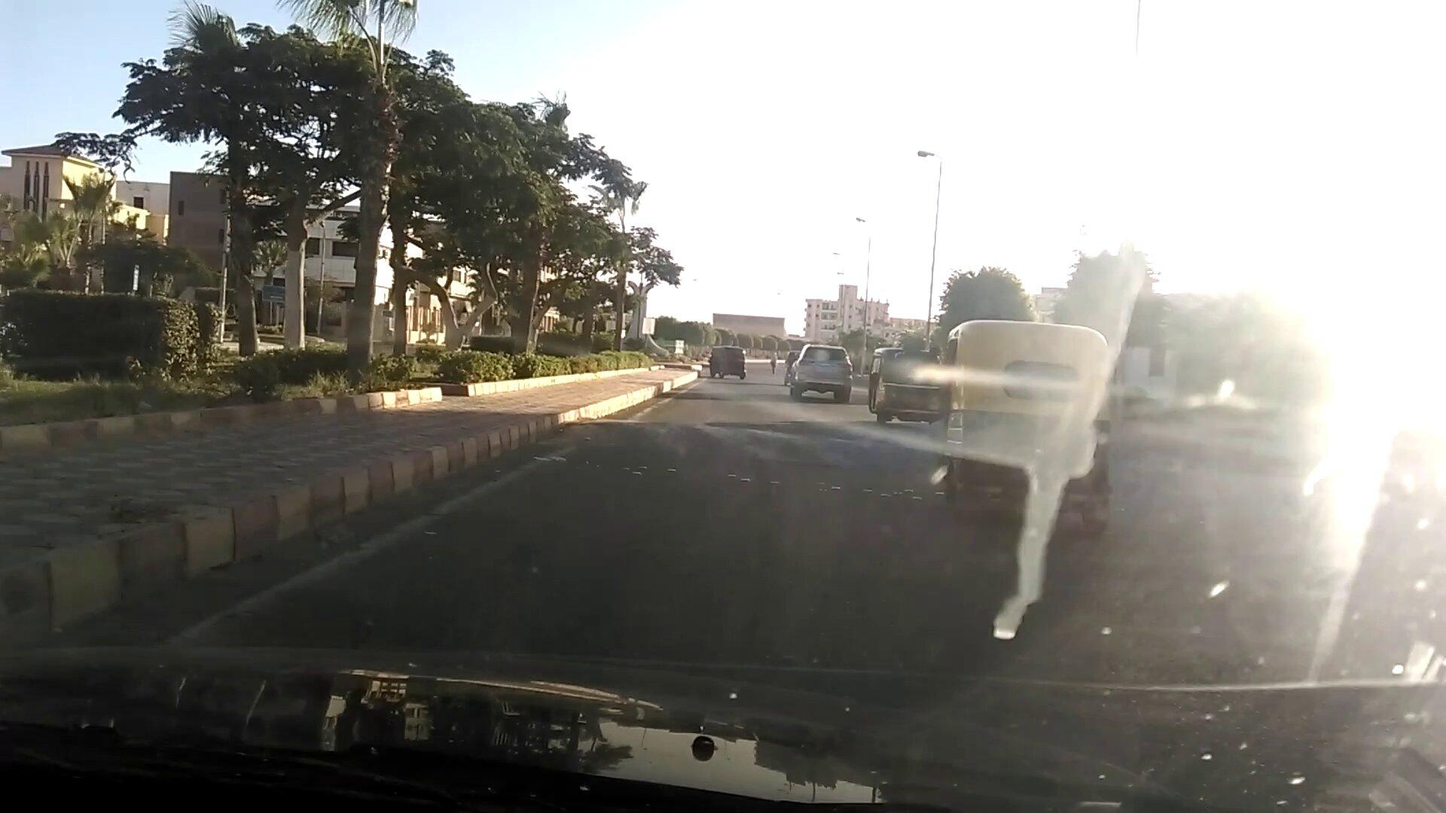Bump: (559, 410, 956, 489)
